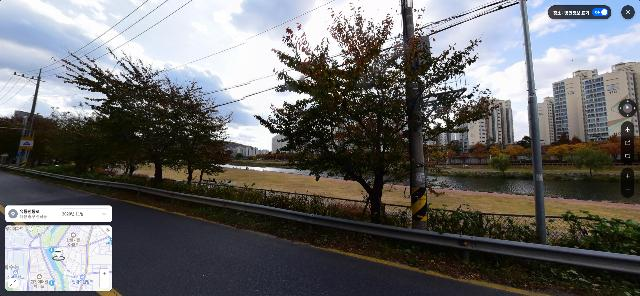other: (253, 4, 501, 224), (55, 47, 236, 185)
